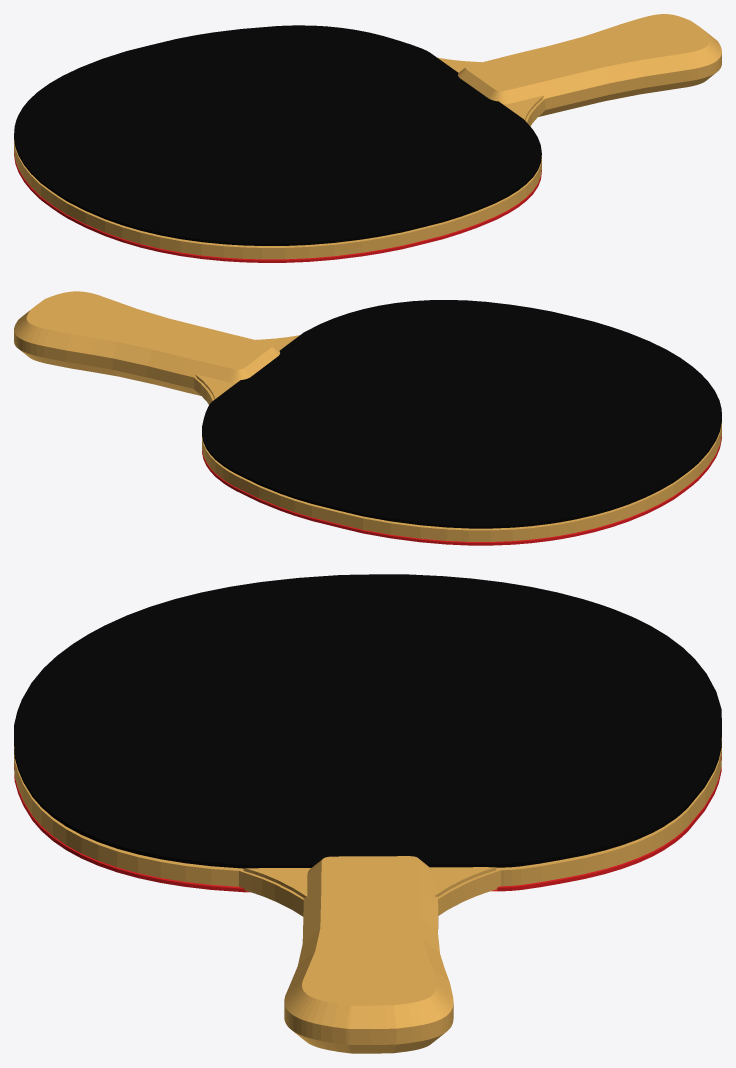
Rendered from paddle.glb.
The picture shows the model from 3 angles, top to bottom: view 1: azimuth 30°, elevation 25°; view 2: azimuth 150°, elevation 25°; view 3: azimuth 270°, elevation 25°; orthographic projection. The views are drawn at different scales.
Visible parts, largest first — view 1: Black Paddle, Ping pong paddle, Red Paddle; view 2: Black Paddle, Ping pong paddle, Red Paddle; view 3: Black Paddle, Ping pong paddle, Red Paddle.
Part boxes in pixels (left/top/right/bottom): Black Paddle: left=14, top=25, right=541, bottom=245; Ping pong paddle: left=14, top=14, right=721, bottom=259; Red Paddle: left=14, top=153, right=541, bottom=262; Black Paddle: left=202, top=300, right=721, bottom=528; Ping pong paddle: left=14, top=291, right=721, bottom=541; Red Paddle: left=202, top=436, right=721, bottom=545; Black Paddle: left=14, top=574, right=721, bottom=868; Ping pong paddle: left=14, top=738, right=721, bottom=1053; Red Paddle: left=14, top=756, right=721, bottom=892.
Size of the model in its own units: 301 by 15.02 by 201.
